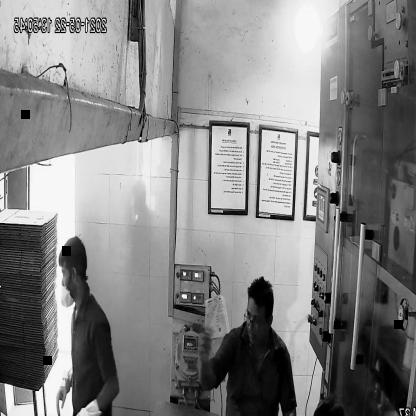goggles: (241, 311, 274, 331)
